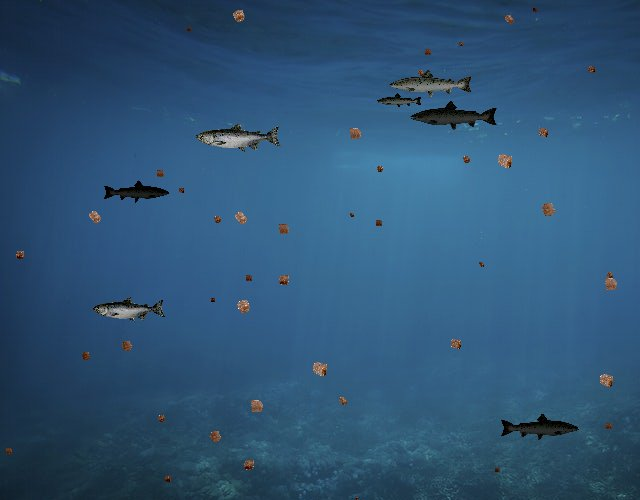Fish: (410, 100, 500, 132), (388, 68, 474, 99), (196, 122, 282, 153), (500, 412, 581, 442), (94, 297, 167, 323), (102, 180, 170, 204), (376, 93, 423, 110)
Pellet: (243, 393, 270, 420), (343, 121, 368, 146), (238, 454, 260, 476), (499, 9, 519, 29), (372, 216, 386, 230), (175, 184, 188, 197), (456, 38, 466, 48)
